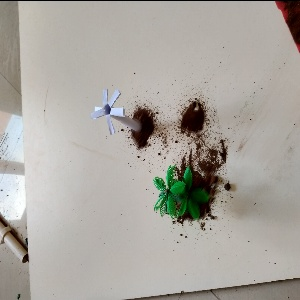plant: (149, 161, 208, 227)
weed: (88, 89, 147, 140)
